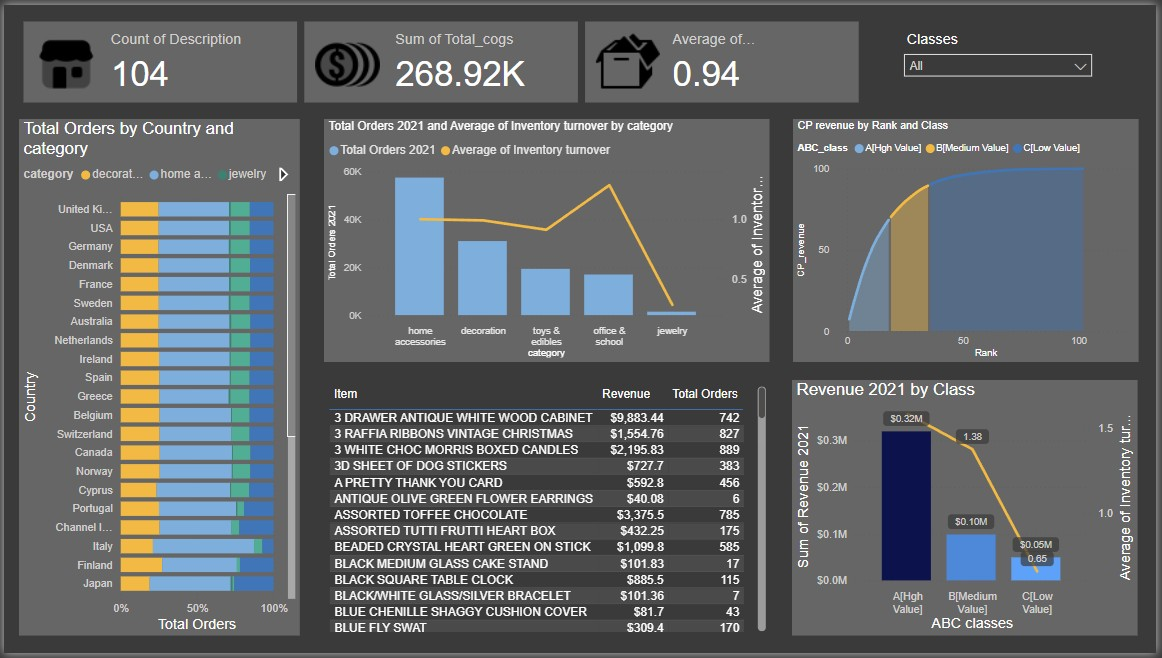

The page's visual inventory and layout, read from the dashboard file:
{"tool":"powerbi","page":{"name":"Dashboard","canvas":[1280,720],"ordinal":2},"visuals":[{"type":"lineStackedColumnComboChart","title":"Revenue 2021 by Class","fields":{"Category":["ABC.ABC_class"],"Y":["Sum(Stock.Revenue_2021)"],"Y2":["Avg(Turnover.Inventory_turnover)"]},"box":[876.1,416.8,384,283.7],"z":0},{"type":"cardVisual","fields":{"Data":["CountNonNull(Stock.Description)","Sum(Stock.Total_cogs)","Avg(Turnover.Inventory_turnover)"]},"box":[17,13.2,939.2,100.2],"z":1000},{"type":"areaChart","title":"CP revenue by Rank and Class","fields":{"Y":["Avg(ABC.CP_revenue)"],"Category":["ABC.Rank"],"Series":["ABC.ABC_class"]},"box":[876.9,126.6,383.6,270.2],"z":4000},{"type":"hundredPercentStackedBarChart","fields":{"Category":["Orders.Country"],"Series":["categories.category"],"Y":["Sum(Stock.Total_Orders_2021)"]},"box":[17,126.6,311.8,574.5],"z":5000},{"type":"tableEx","fields":{"Values":["Turnover.Description","Stock.Revenue_2021","Stock.Total_Orders_2021"]},"box":[355.1,418.7,495.9,281.7],"z":6000},{"type":"lineClusteredColumnComboChart","title":"Total Orders 2021 and Average of Inventory turnover by category","fields":{"Category":["categories.category"],"Y":["Sum(Stock.Total_Orders_2021)"],"Y2":["Avg(Turnover.Inventory_turnover)"]},"box":[355.3,126.6,495.1,270.2],"z":7000},{"type":"slicer","fields":{"Values":["ABC.ABC_class"]},"box":[990.2,24.6,228.7,62.4],"z":8000}]}

Visuals, with their boxes in screenshot pixels (x1, y1, x2, y2), scaled from the page's 1280x720 canvas onto the 1162x658 screenshot:
"Revenue 2021 by Class" lineStackedColumnComboChart: (x1=795, y1=381, x2=1144, y2=640)
cardVisual - CountNonNull(Stock.Description) x Sum(Stock.Total_cogs): (x1=15, y1=12, x2=868, y2=104)
"CP revenue by Rank and Class" areaChart: (x1=796, y1=116, x2=1144, y2=363)
hundredPercentStackedBarChart - Orders.Country x categories.category: (x1=15, y1=116, x2=298, y2=641)
tableEx - Turnover.Description x Stock.Revenue_2021: (x1=322, y1=383, x2=773, y2=640)
"Total Orders 2021 and Average of Inventory turnover by category" lineClusteredColumnComboChart: (x1=323, y1=116, x2=772, y2=363)
slicer - ABC.ABC_class: (x1=899, y1=22, x2=1107, y2=80)
